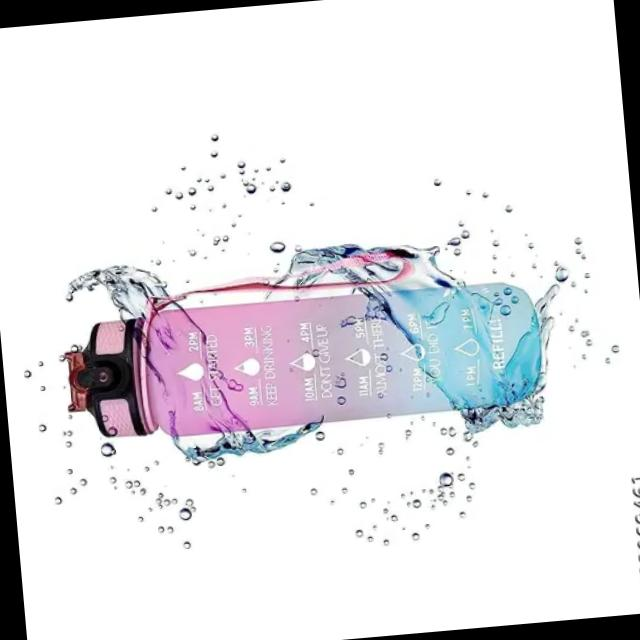plastic_bottle: (49, 237, 549, 471)
